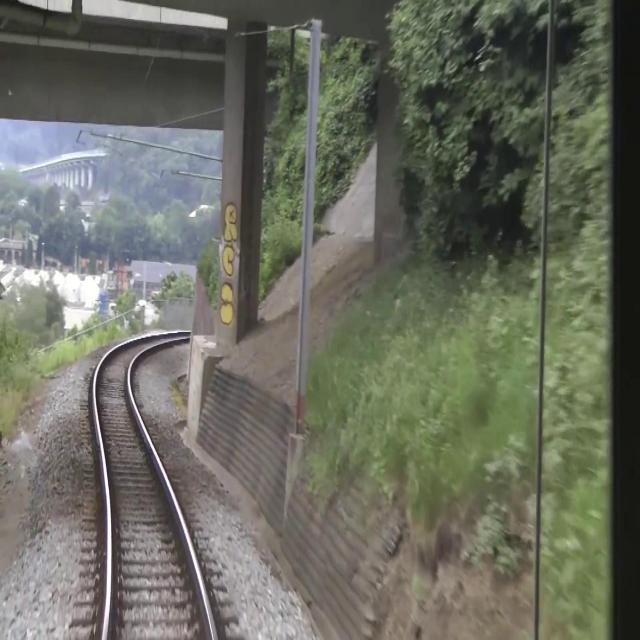rail-track: (96, 335, 211, 639)
